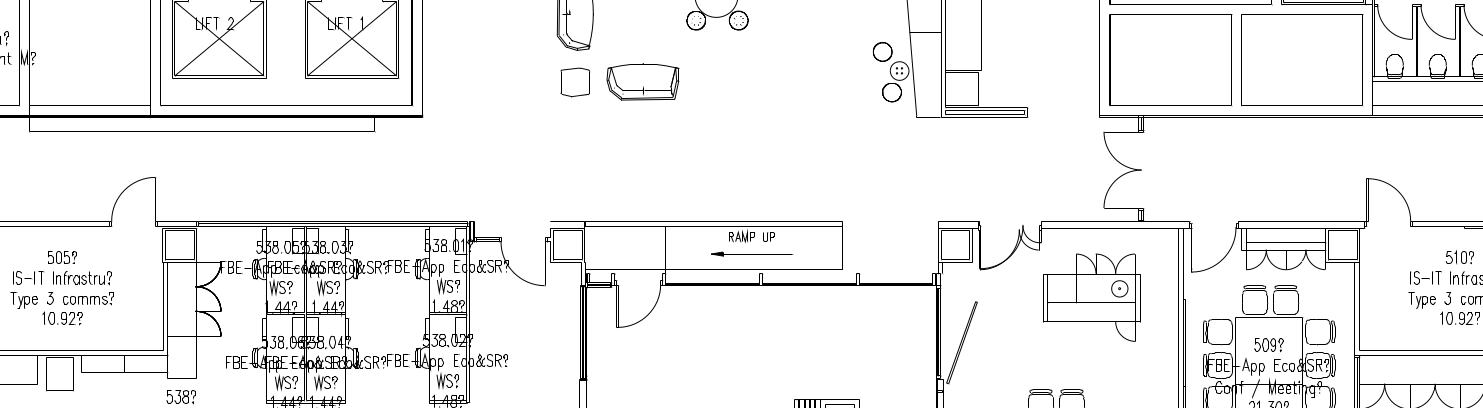door: (1091, 127, 1140, 214), (974, 214, 1045, 273), (1360, 168, 1421, 230), (610, 282, 666, 342), (493, 233, 549, 293), (102, 171, 158, 231), (1188, 216, 1240, 280), (1376, 1, 1416, 47), (1420, 1, 1460, 47)
